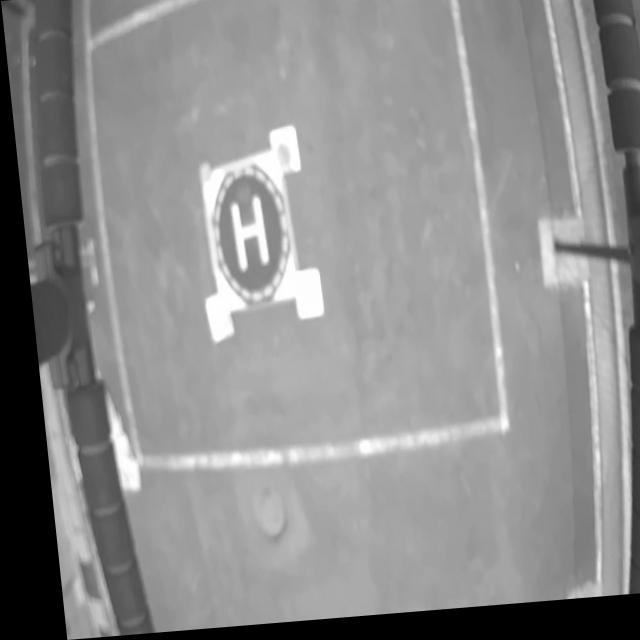Helipad: (224, 198, 264, 274)
